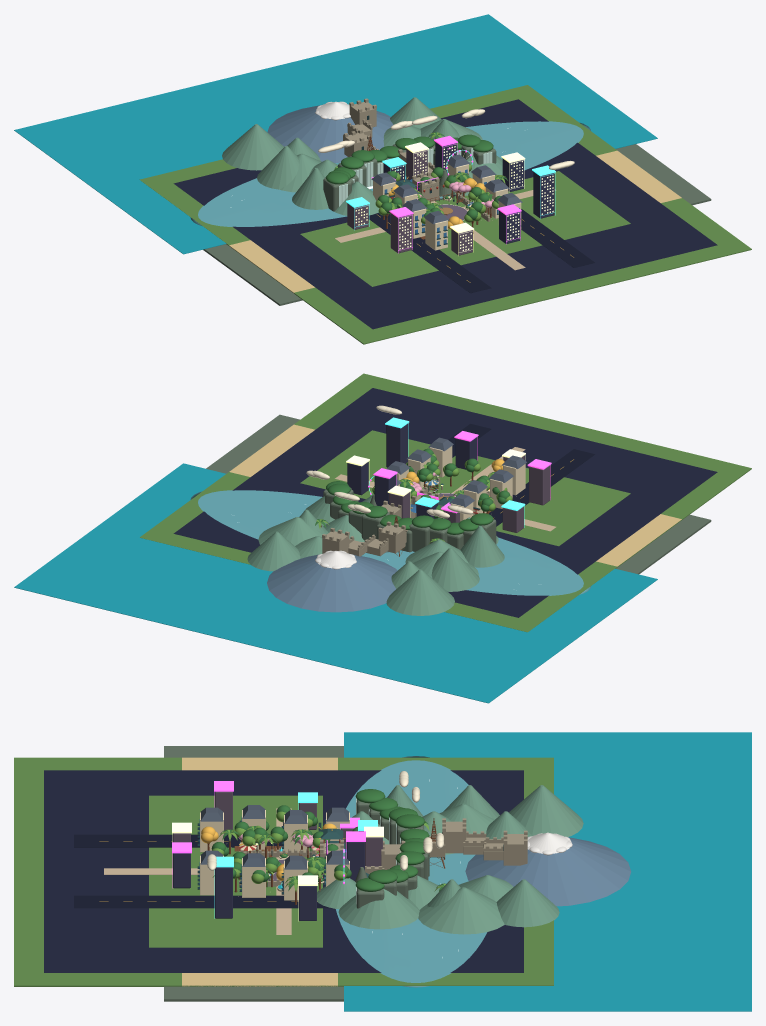
File: cenarios.glb
The picture shows the model from 3 angles, top to bottom: view 1: azimuth 30°, elevation 25°; view 2: azimuth 150°, elevation 25°; view 3: azimuth 270°, elevation 25°; orthographic projection. The views are drawn at different scales.
Visible parts, largest first — view 1: praia_agua, vegas, cataratas, parque, muralha, fuji_agua, fuji, paris, praia, china; view 2: praia_agua, vegas, cataratas, parque, muralha, fuji, fuji_agua, praia, paris; view 3: praia_agua, vegas, cataratas, parque, muralha, fuji, fuji_agua, paris, praia, china.
Part boxes in pixels (x1,y1,x2,y2): praia_agua: [14, 14, 657, 254]; vegas: [173, 99, 717, 329]; cataratas: [203, 134, 711, 305]; parque: [139, 85, 751, 344]; muralha: [222, 97, 502, 221]; fuji_agua: [190, 121, 590, 226]; fuji: [235, 101, 706, 306]; paris: [367, 134, 522, 250]; praia: [229, 109, 681, 293]; china: [391, 170, 492, 209]; praia_agua: [14, 463, 657, 703]; vegas: [173, 388, 717, 617]; cataratas: [206, 414, 711, 574]; parque: [140, 373, 751, 632]; muralha: [247, 477, 504, 615]; fuji: [258, 406, 706, 612]; fuji_agua: [190, 490, 590, 595]; praia: [229, 424, 681, 566]; paris: [386, 437, 526, 556]; praia_agua: [344, 732, 751, 1011]; vegas: [44, 770, 523, 972]; cataratas: [149, 746, 429, 1001]; parque: [14, 757, 553, 986]; muralha: [239, 785, 583, 929]; fuji: [122, 758, 631, 986]; fuji_agua: [336, 756, 487, 987]; paris: [197, 805, 445, 900]; praia: [182, 757, 446, 986]; china: [254, 827, 367, 887].
Size of the model in its own units: 110 by 13.35 by 123.
